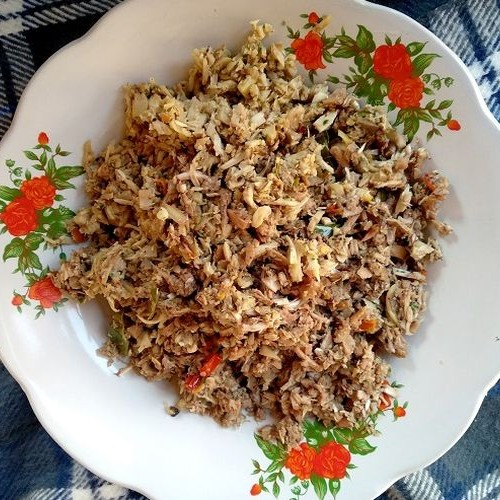lawar: (103, 132, 413, 407)
